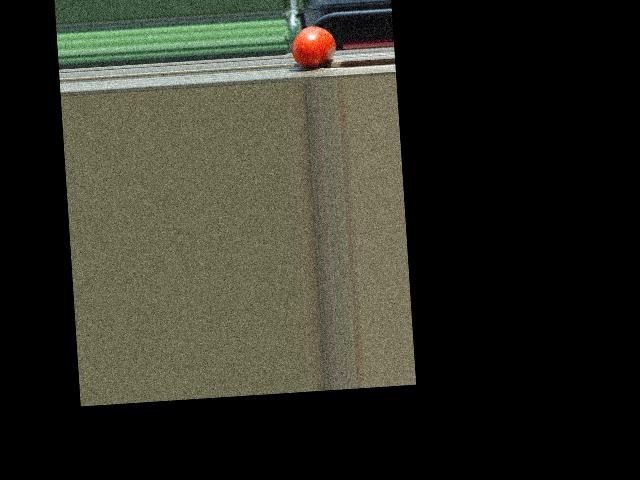tomato: (289, 24, 336, 67)
